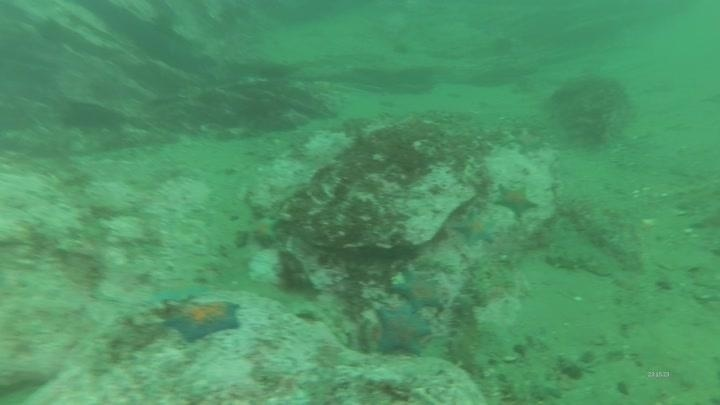holothurian: (445, 291, 486, 377), (541, 243, 619, 278)
starfish: (159, 296, 243, 344), (370, 304, 433, 359), (390, 266, 445, 315), (451, 208, 499, 247), (492, 181, 540, 219), (149, 277, 210, 306), (245, 211, 283, 248), (510, 126, 547, 156)
